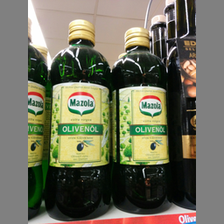oil: (46, 19, 114, 221), (112, 27, 170, 215)
